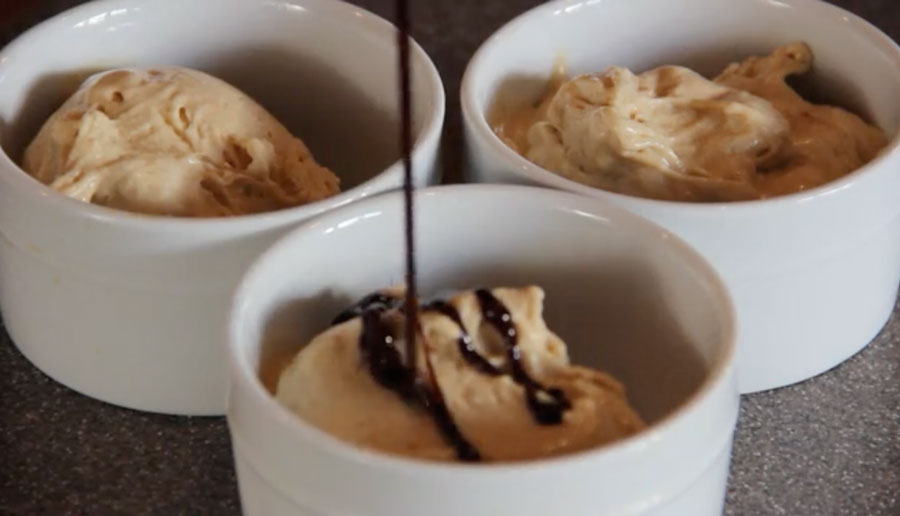ice-cream: (275, 288, 650, 459), (500, 42, 889, 204), (24, 68, 342, 217)
